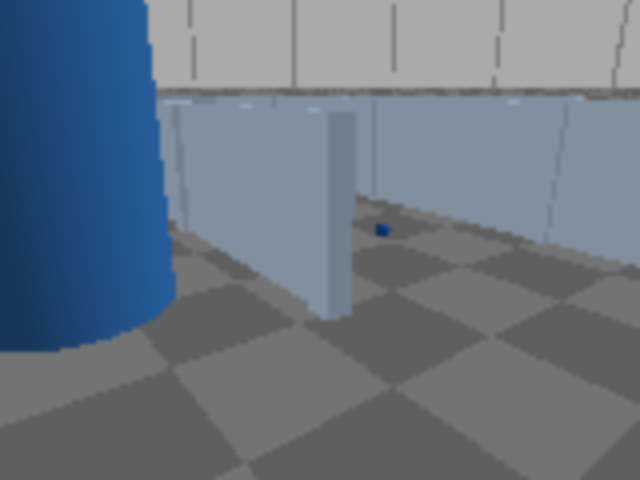person: (0, 0, 170, 341)
puck: (371, 219, 394, 240)
